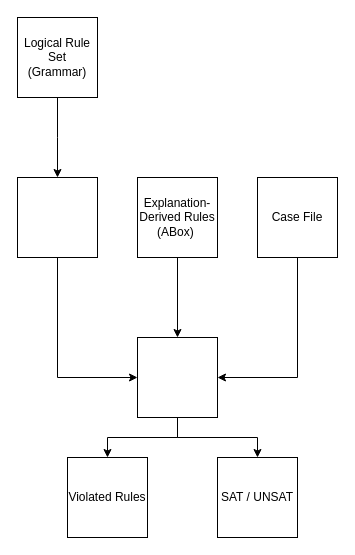
This 355x555 diagram has some shape labels left out. Here are the shapes that lost their labels. From the top down, the centre of each, then its label:
At point (57, 217): "Statutory Rule Subset (TBox)".
At point (177, 377): "SMT Solver".
